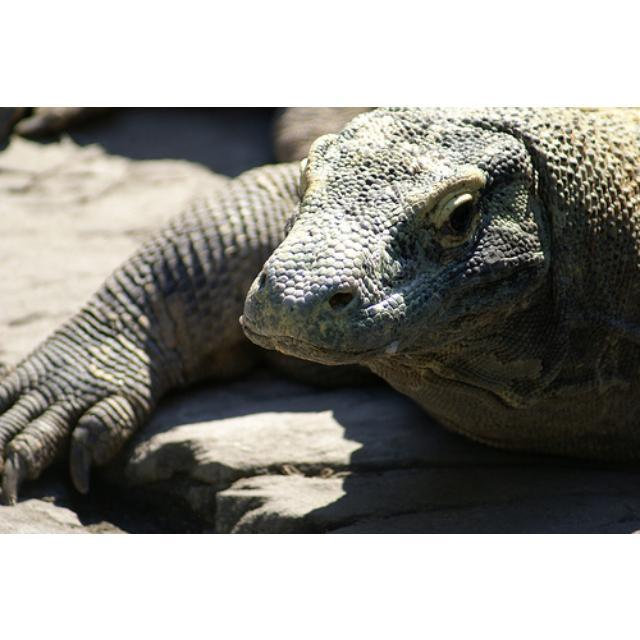KomodoDragon: (1, 107, 638, 508)
